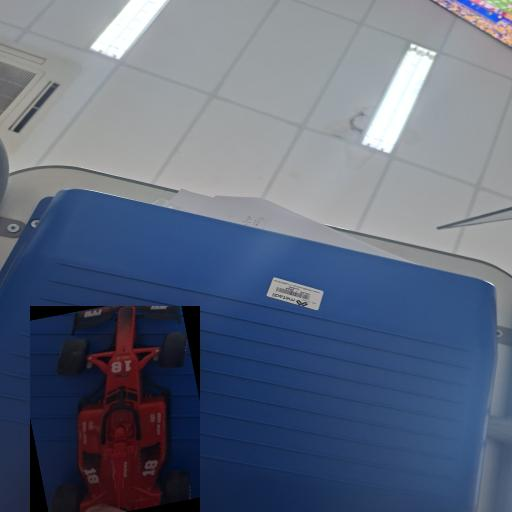carro: (31, 307, 200, 511)
